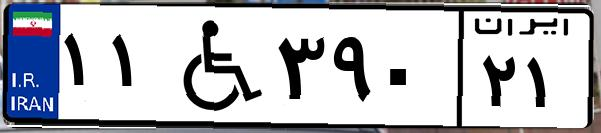0: (385, 28, 445, 110)
1: (57, 26, 110, 100), (525, 38, 570, 115), (110, 28, 158, 98)
2: (475, 38, 525, 113)
3: (270, 28, 330, 110)
9: (330, 28, 385, 110)
ژ (معلولین و جانبازان): (158, 12, 270, 120)
